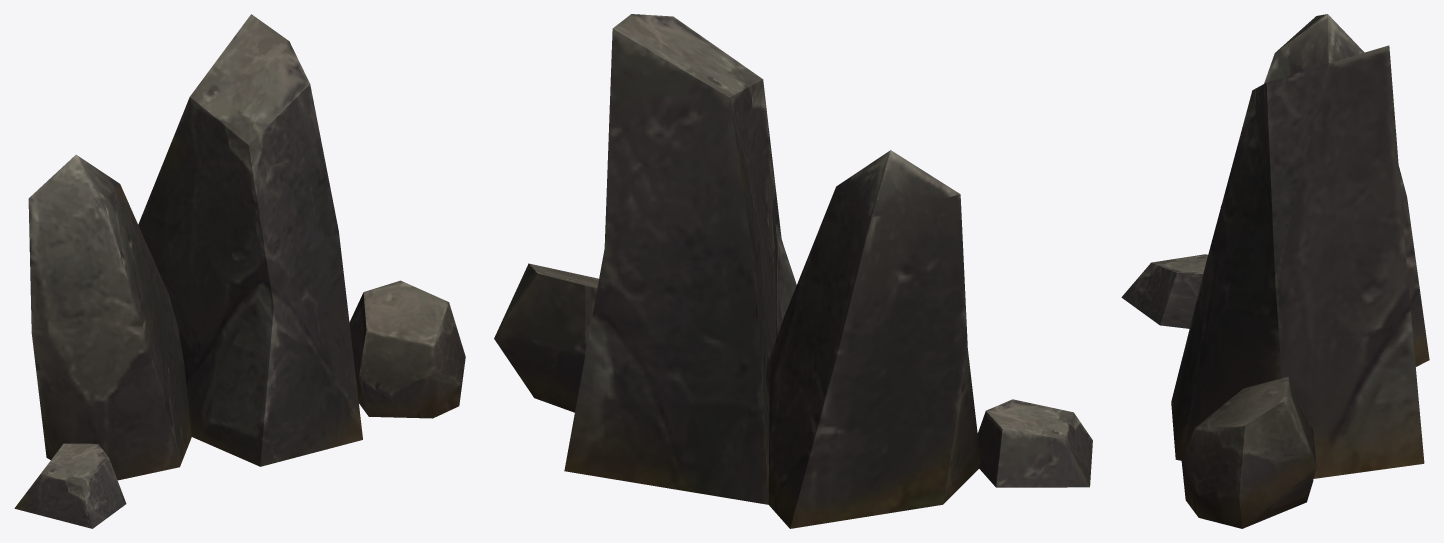
Rendered from common_underground_dongxueshitou03.FBX.
The picture shows the model from 3 angles, left to right: view 1: azimuth 30°, elevation 25°; view 2: azimuth 150°, elevation 25°; view 3: azimuth 270°, elevation 25°; orthographic projection. The views are drawn at different scales.
Parts seen in each view (by area): view 1: common_underground_dongxueshitou03; view 2: common_underground_dongxueshitou03; view 3: common_underground_dongxueshitou03.
Boxes of the visible parts, left/top/right/bottom form: common_underground_dongxueshitou03: left=14, top=14, right=465, bottom=528; common_underground_dongxueshitou03: left=494, top=14, right=1092, bottom=528; common_underground_dongxueshitou03: left=1121, top=14, right=1429, bottom=528.
Bounding box in the file's own units: 3.99 × 2.97 × 2.05.
